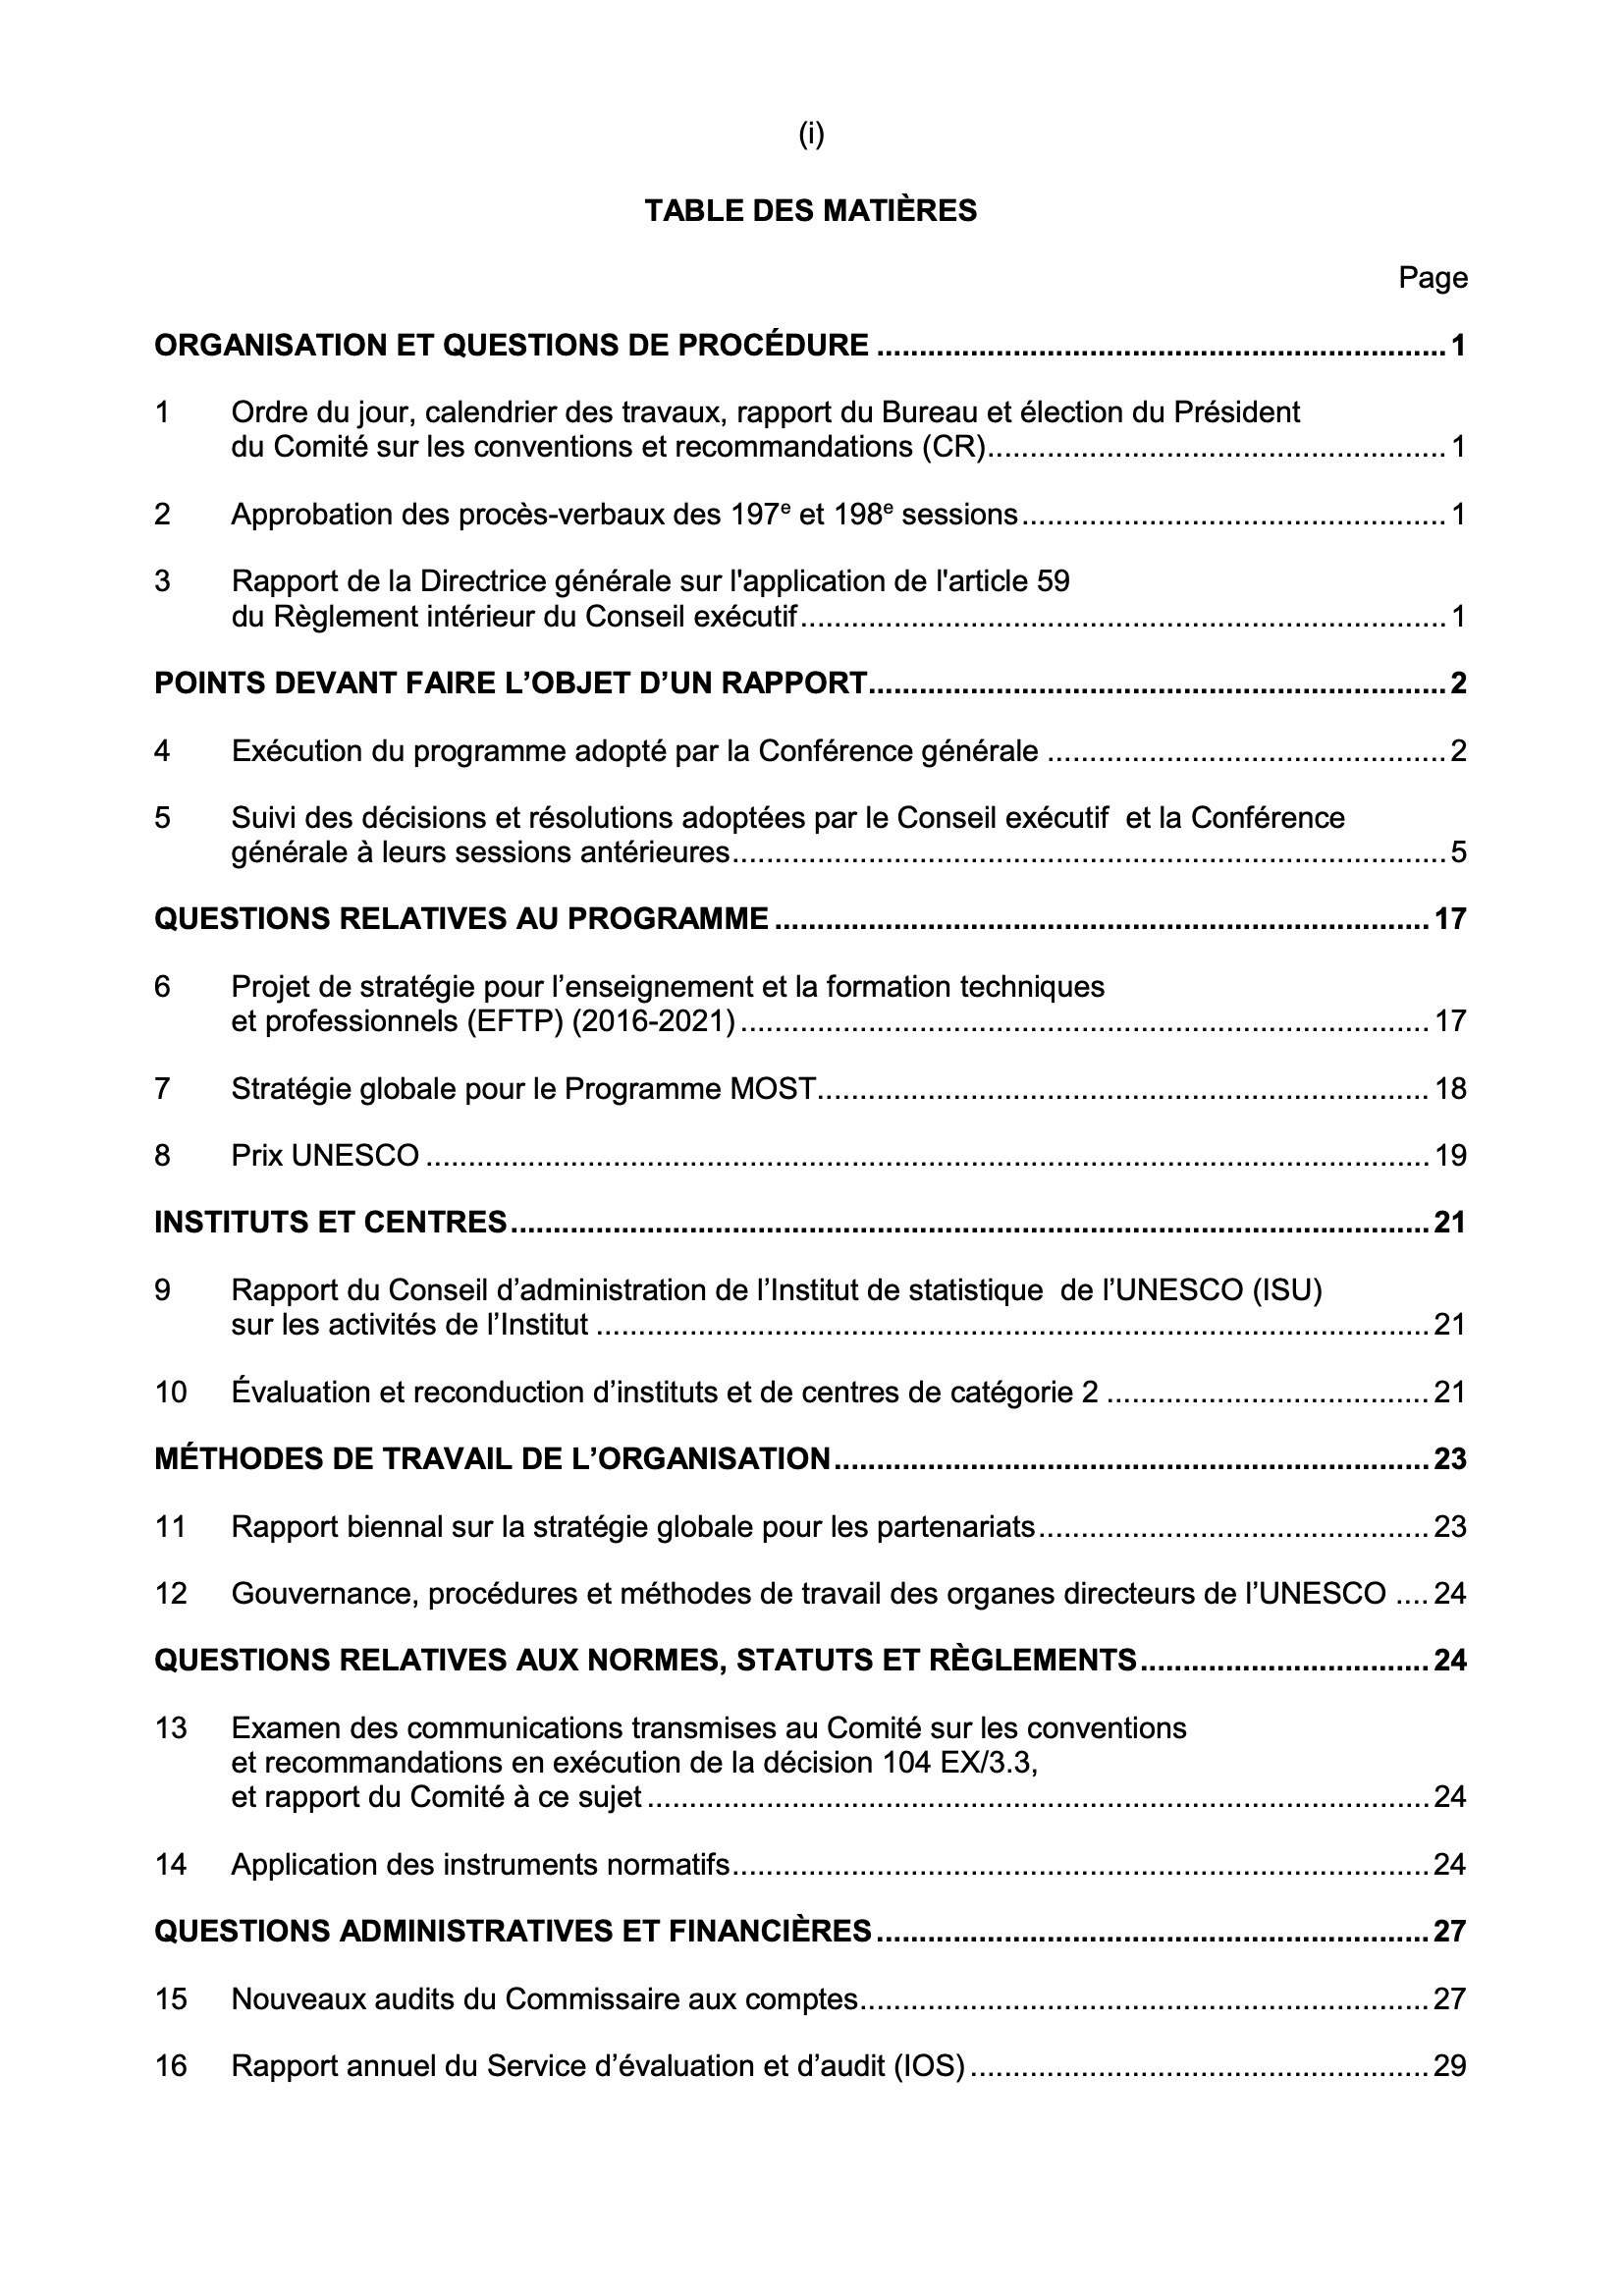MainZone-Head: (630, 190, 989, 231)
QuireMarksZone: (119, 250, 1509, 2153)
TitlePageZone: (787, 115, 831, 160)
